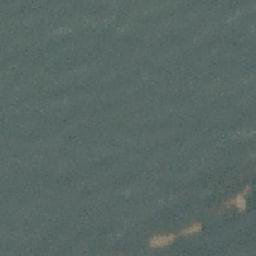debris: (151, 224, 200, 248), (223, 189, 253, 215)
